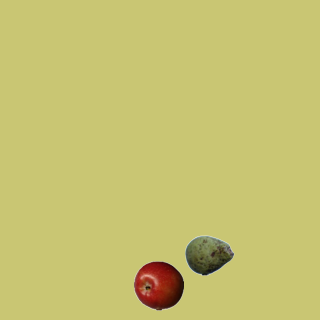Apple Braeburn: (133, 260, 183, 310)
Pear Stone: (184, 230, 234, 280)
